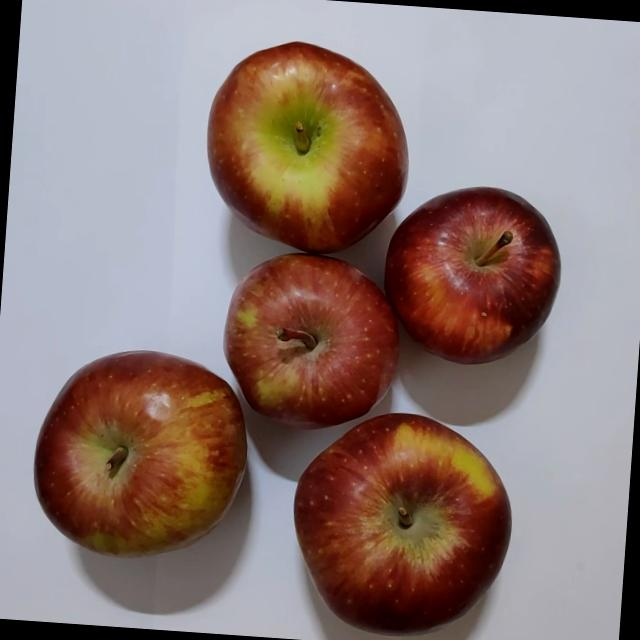apple: (278, 393, 526, 640), (16, 331, 260, 574), (190, 31, 422, 268), (376, 173, 572, 374), (214, 245, 408, 438)
